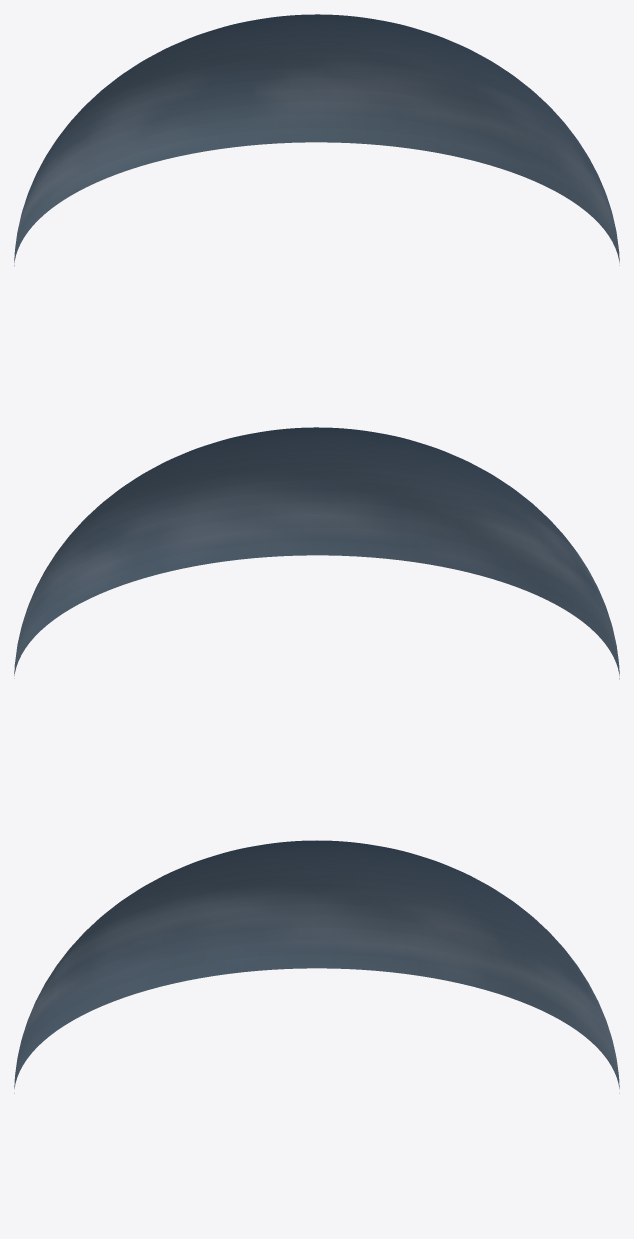
The model's file is e12h-titan-interior-sky.glb.
The picture shows the model from 3 angles, top to bottom: view 1: azimuth 30°, elevation 25°; view 2: azimuth 150°, elevation 25°; view 3: azimuth 270°, elevation 25°; orthographic projection.
Visible parts, largest first — view 1: E12h · North storm shelf; view 2: E12h · North storm shelf; view 3: E12h · North storm shelf.
Boxes of the visible parts, left/top/right/bottom form: E12h · North storm shelf: left=14, top=14, right=619, bottom=266; E12h · North storm shelf: left=14, top=427, right=619, bottom=679; E12h · North storm shelf: left=14, top=840, right=619, bottom=1093.
Bounding box in the file's own units: 228 × 92 × 228.
